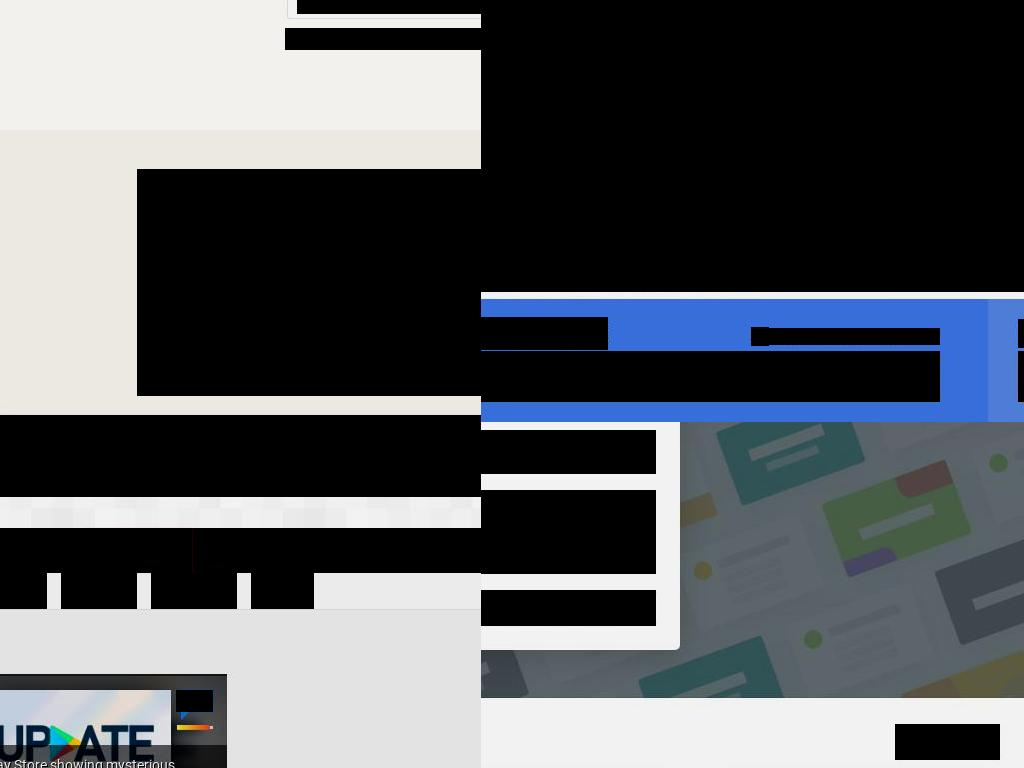button: (137, 169, 357, 396), (357, 169, 481, 396), (0, 676, 227, 768), (481, 590, 656, 626), (84, 528, 192, 573), (895, 724, 1000, 760), (151, 573, 237, 609), (61, 573, 137, 609), (251, 573, 314, 609), (481, 351, 522, 402), (0, 573, 47, 609), (176, 690, 213, 712)
field: (521, 351, 940, 402), (242, 532, 481, 569), (297, 0, 481, 14)
heading: (481, 175, 736, 259), (481, 430, 656, 474), (481, 317, 608, 350), (784, 239, 966, 262), (0, 755, 213, 768), (784, 185, 889, 208)
iframe: (242, 626, 481, 768)
image: (481, 0, 1024, 292), (0, 422, 481, 497), (157, 169, 337, 350), (0, 676, 227, 768), (377, 169, 481, 350), (0, 690, 172, 768), (201, 535, 232, 565), (967, 732, 987, 753), (751, 327, 769, 346), (176, 726, 210, 729)
text: (481, 490, 656, 574), (285, 28, 481, 50), (198, 361, 296, 388), (834, 328, 940, 345), (908, 732, 967, 751), (769, 328, 834, 345), (447, 361, 481, 388), (94, 535, 123, 565), (125, 549, 168, 566), (125, 534, 146, 551)
